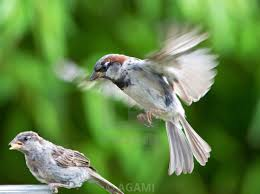hsparrow: (86, 25, 222, 179), (6, 128, 127, 194)
